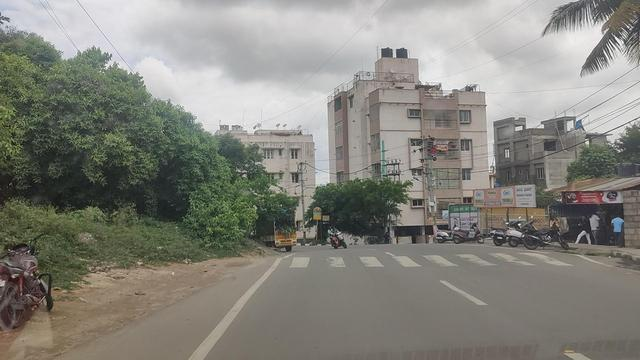SpeedBump: (270, 254, 570, 268)
